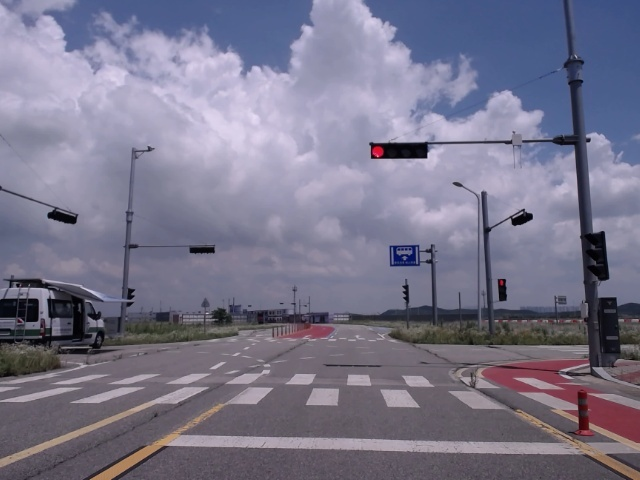red_4: (370, 143, 429, 159)
